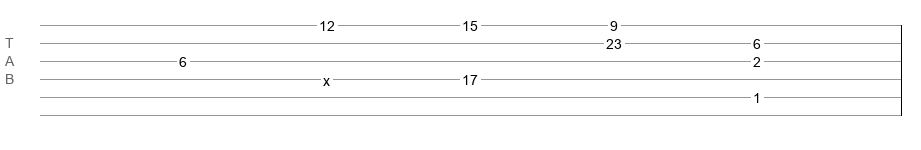1: (753, 90, 761, 100)
12: (319, 18, 335, 28)
15: (462, 18, 478, 28)
17: (462, 72, 478, 82)
2: (753, 54, 761, 64)
23: (606, 36, 622, 46)
6: (179, 54, 187, 64), (753, 36, 761, 46)
9: (610, 18, 618, 28)
x: (323, 73, 330, 81)
